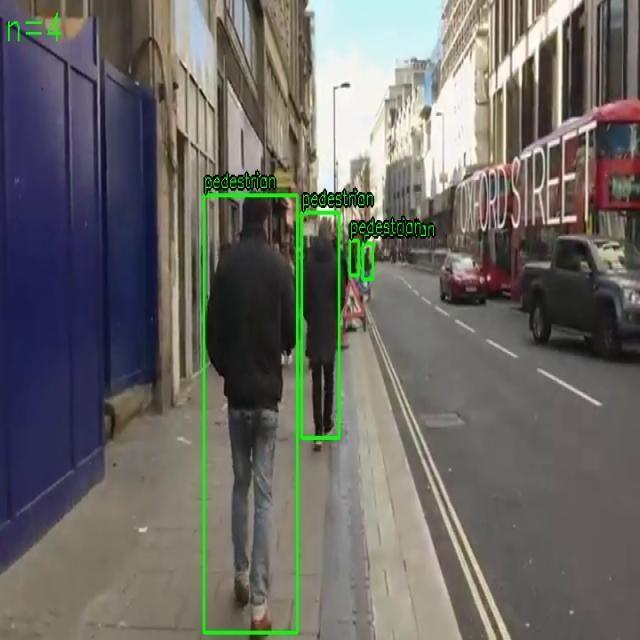person: (204, 194, 298, 634), (302, 212, 339, 439), (363, 242, 373, 280), (349, 240, 359, 276)
